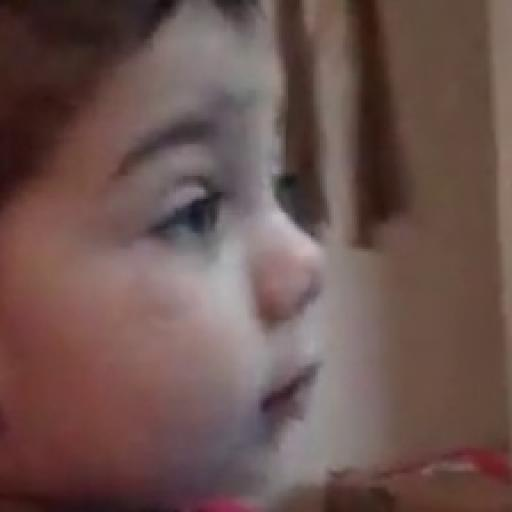Autism: (10, 18, 393, 471)
